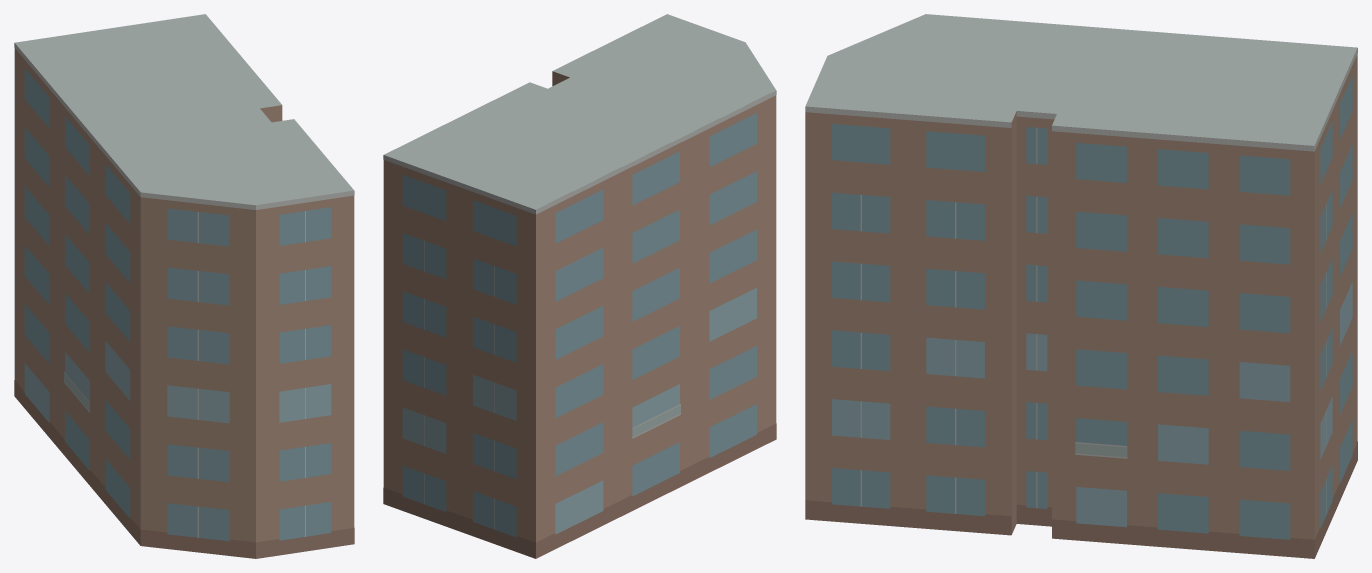
File: survey-upis-32664570.glb
3 views of the same model, side by side, from view 1: azimuth 30°, elevation 25°; view 2: azimuth 150°, elevation 25°; view 3: azimuth 270°, elevation 25° (orthographic). The views are drawn at different scales.
Parts seen in each view (by area): view 1: survey-upis-32664570.tmp; view 2: survey-upis-32664570.tmp; view 3: survey-upis-32664570.tmp.
Part boxes in pixels (x1=…): survey-upis-32664570.tmp: x1=14, y1=14, x2=354, y2=558; survey-upis-32664570.tmp: x1=383, y1=14, x2=776, y2=558; survey-upis-32664570.tmp: x1=805, y1=14, x2=1357, y2=558.
Bounding box in the file's own units: 12.21 × 17.8 × 21.59.
